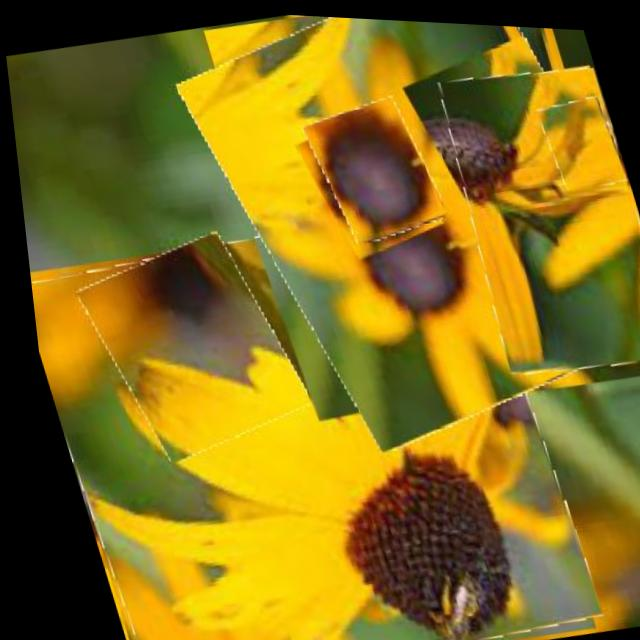Flower: (16, 178, 594, 640), (178, 7, 640, 457), (423, 48, 640, 383), (68, 224, 306, 466), (299, 88, 444, 245), (535, 88, 627, 190)
